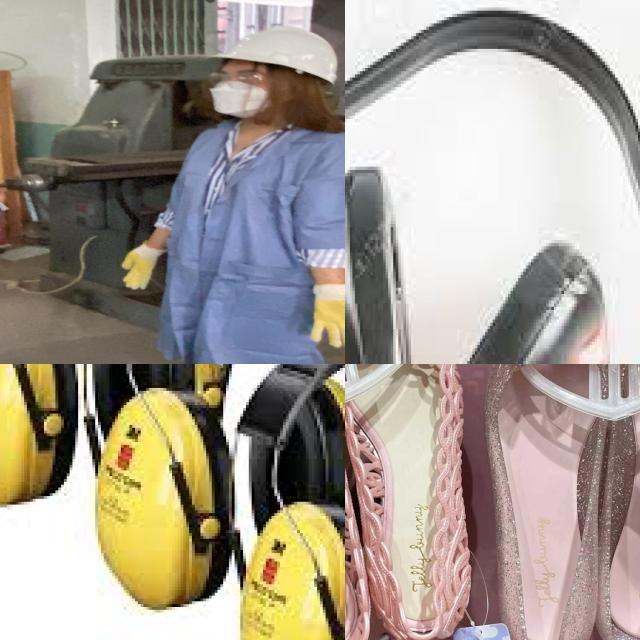Ear-protection: (86, 377, 238, 612), (408, 233, 609, 364), (229, 493, 345, 640), (345, 160, 419, 364), (0, 364, 80, 510), (283, 373, 345, 541)
Sandals: (469, 364, 640, 640), (345, 364, 491, 640)
face_mask: (200, 65, 284, 118)
glasses: (204, 70, 268, 90)
hand_glove: (295, 283, 345, 354), (114, 244, 166, 292)
head_helmet: (212, 24, 345, 86)
person: (95, 20, 345, 364)
